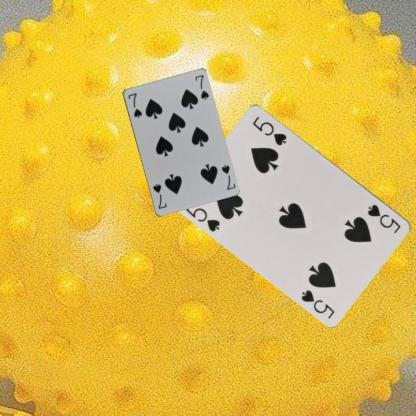5s: (364, 202, 402, 235), (184, 200, 222, 233)
7s: (218, 162, 236, 192), (125, 90, 143, 119)
